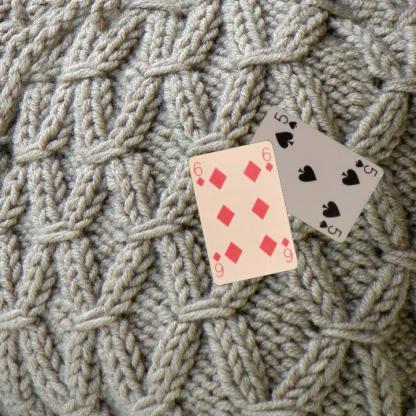5s: (352, 156, 379, 178)
6d: (278, 234, 294, 264), (190, 159, 206, 188)
